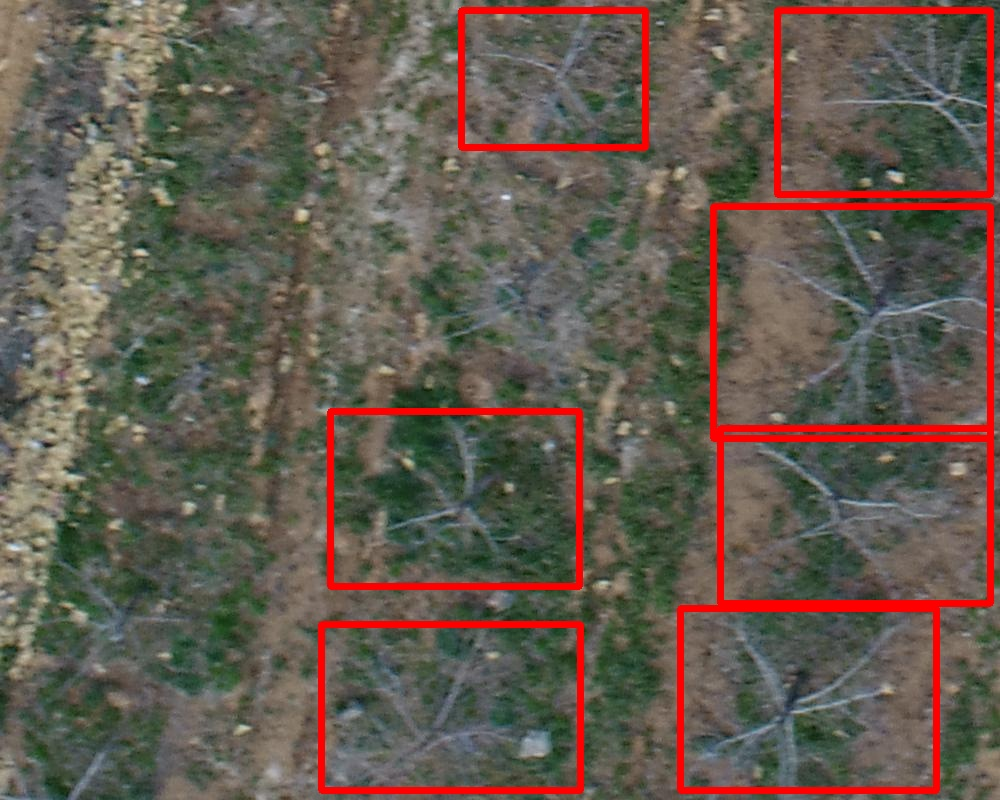apple: (713, 206, 990, 438), (720, 428, 990, 603), (680, 608, 936, 790), (330, 411, 579, 586), (321, 624, 580, 790), (777, 10, 990, 194), (461, 10, 645, 147)
